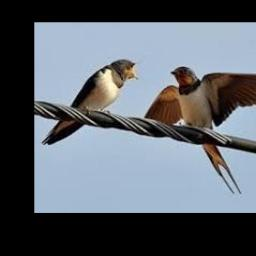Swallow: (142, 66, 256, 193), (40, 60, 138, 145)
